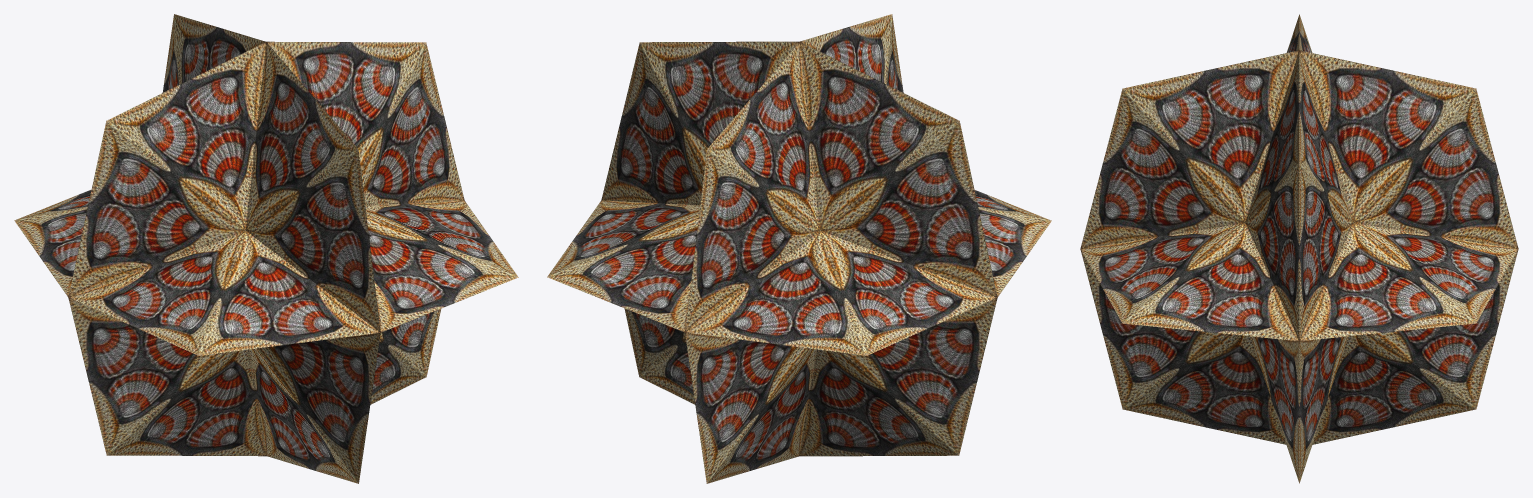
File: Mobius48a_14.obj
3 views of the same model, side by side, from view 1: azimuth 30°, elevation 25°; view 2: azimuth 150°, elevation 25°; view 3: azimuth 270°, elevation 25° (orthographic). The views are drawn at different scales.
Size of the model in its own units: 2.41 by 2.41 by 2.41.
1 material, 1 textured.
